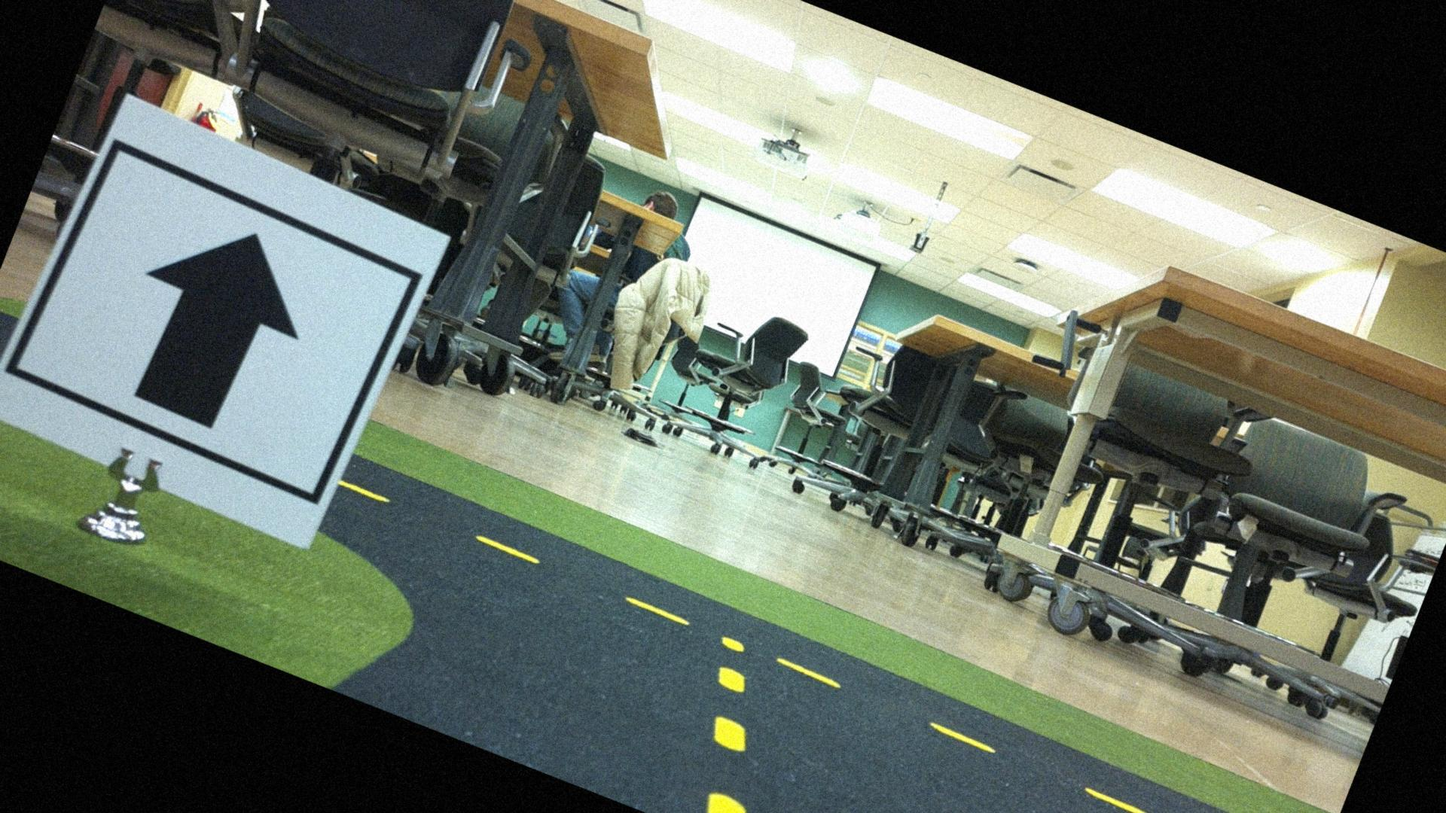gostraight: (8, 127, 428, 531)
yellowline: (332, 477, 1322, 812), (656, 635, 812, 812)
